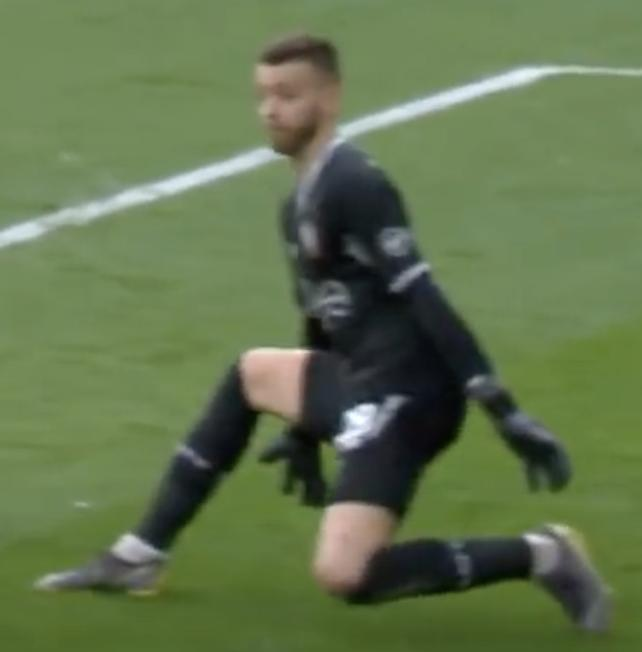goalkeeper: (26, 13, 637, 650)
